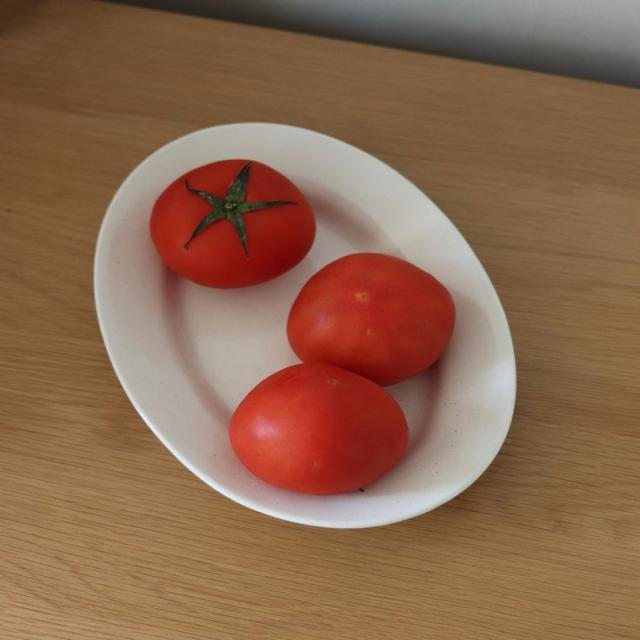tomato: (230, 364, 407, 494), (287, 254, 454, 386), (151, 160, 315, 287)
